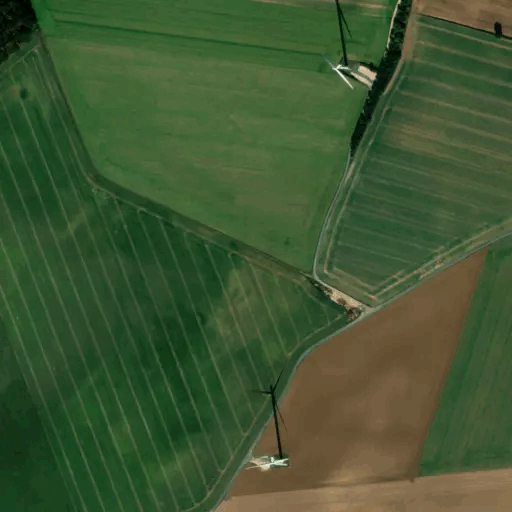wt: (242, 360, 306, 480), (327, 1, 377, 96)
